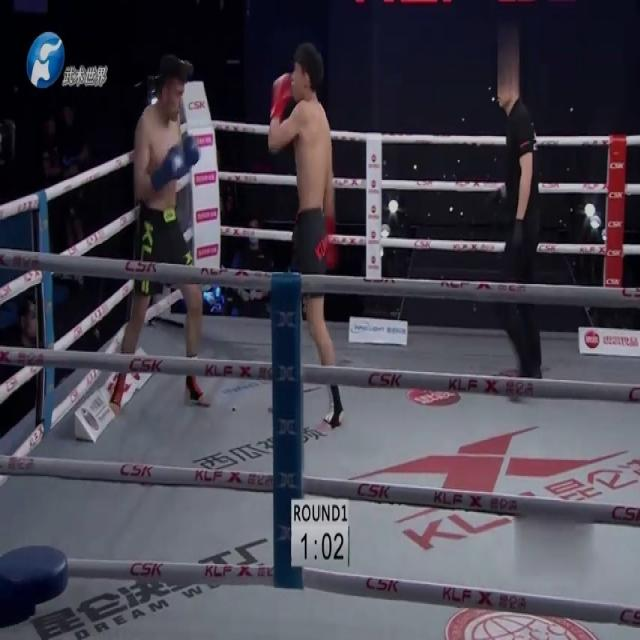fight: (100, 42, 352, 430)
non-fight: (483, 53, 558, 407)
